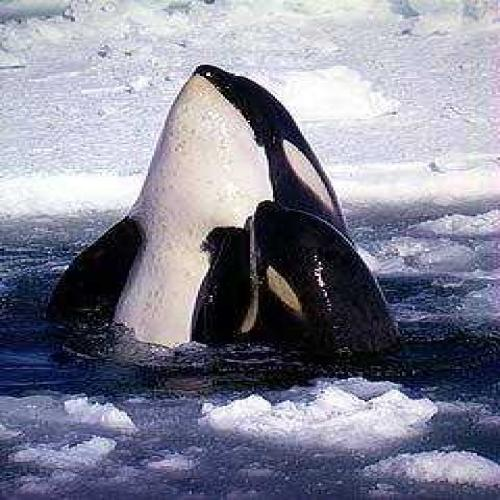killer_whale-endangered: (98, 60, 359, 363), (231, 191, 422, 369)
